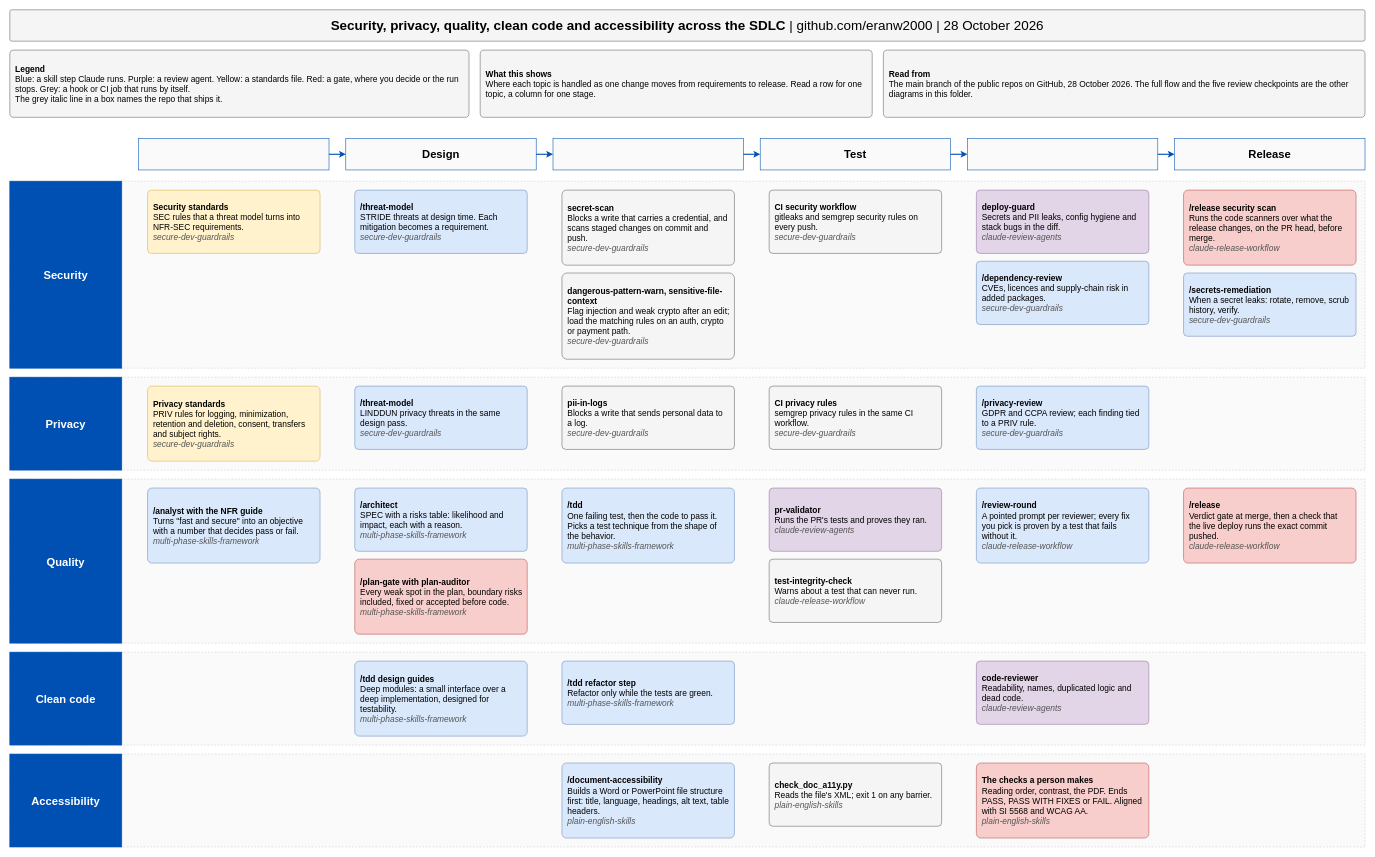
Some shapes in this 1375 by 857 pixel diagram are drawn without their labels. The centre of each missing label's shape, as x and y in pixels:
"Build" belongs at [647,154].
"Requirements" belongs at [233,154].
"Review" belongs at [1062,154].
